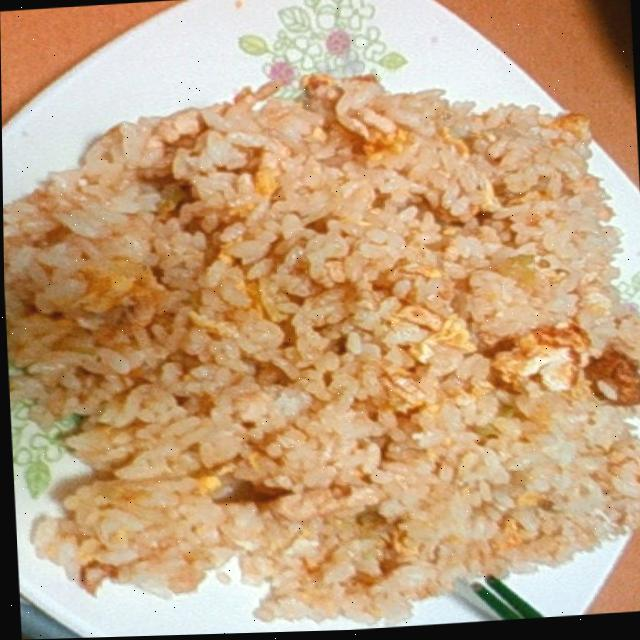米饭主食: (1, 55, 640, 618)
